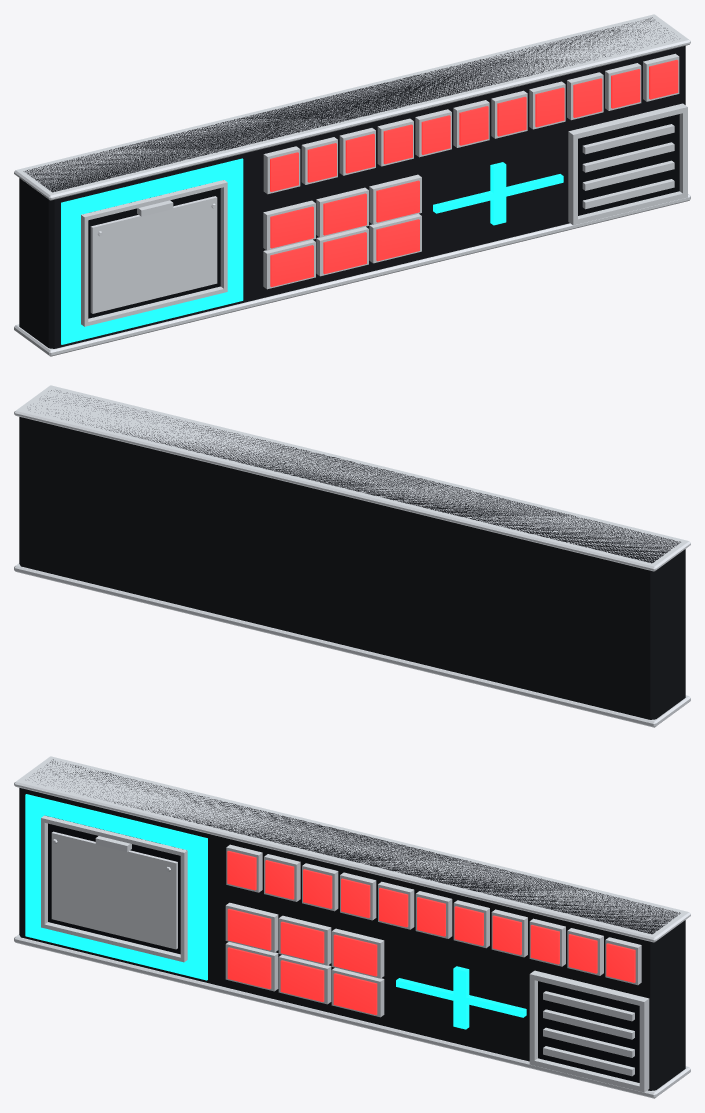
Rendered from rb_neon_plate.glb.
3 views of the same model, one above another, from view 1: azimuth 30°, elevation 25°; view 2: azimuth 150°, elevation 25°; view 3: azimuth 330°, elevation 25° (orthographic).
Parts seen in each view (by area): view 1: rb_neon_plate_chrome, rb_neon_plate_deco_body, rb_neon_plate_lamp_tail, rb_neon_plate_deco_neon, rb_neon_plate_deco_plate, rb_neon_plate_deco_trim; view 2: rb_neon_plate_deco_body, rb_neon_plate_chrome; view 3: rb_neon_plate_chrome, rb_neon_plate_deco_body, rb_neon_plate_lamp_tail, rb_neon_plate_deco_neon, rb_neon_plate_deco_plate, rb_neon_plate_deco_trim.
Boxes of the visible parts, x1,y1,x2,y2 form: rb_neon_plate_chrome: [14, 14, 690, 356]; rb_neon_plate_deco_body: [19, 17, 685, 348]; rb_neon_plate_lamp_tail: [270, 59, 678, 286]; rb_neon_plate_deco_neon: [61, 158, 563, 344]; rb_neon_plate_deco_plate: [90, 196, 217, 313]; rb_neon_plate_deco_trim: [88, 114, 679, 318]; rb_neon_plate_deco_body: [19, 390, 685, 719]; rb_neon_plate_chrome: [14, 385, 690, 727]; rb_neon_plate_chrome: [14, 756, 690, 1098]; rb_neon_plate_deco_body: [19, 759, 685, 1090]; rb_neon_plate_lamp_tail: [227, 850, 635, 1014]; rb_neon_plate_deco_neon: [25, 794, 526, 1029]; rb_neon_plate_deco_plate: [51, 831, 177, 949]; rb_neon_plate_deco_trim: [47, 816, 639, 1082].
Bounding box in the file's own units: 2.42 × 0.58 × 0.273.
